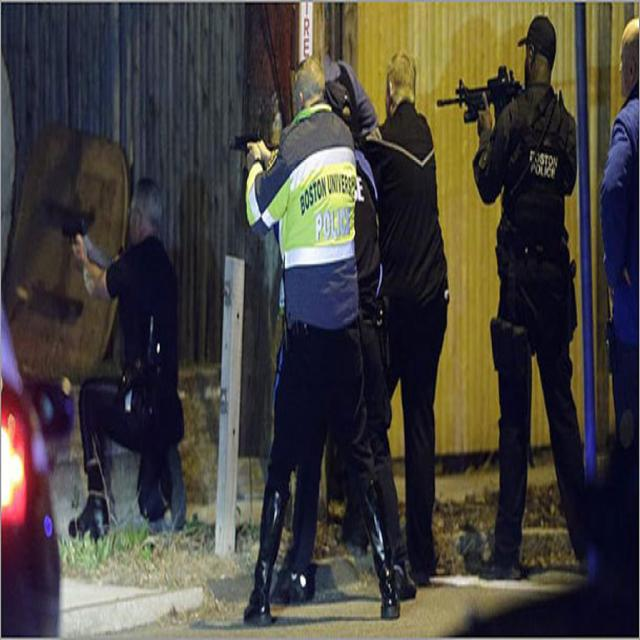Person: (68, 14, 640, 626)
